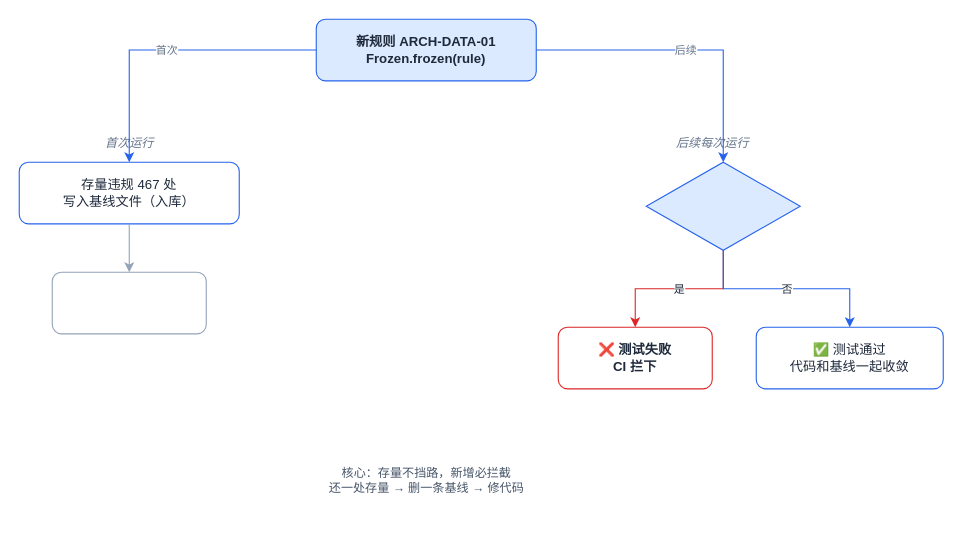
The diagram is 963 pixels wide and 534 high, and some of its shapes have lost their labels. Here are the shapes that lost their labels. From the top down, the centre of each, then its label:
At [722,205]: "有新增违规?".
At [128,302]: "✅ 测试通过 （存量豁免）".
